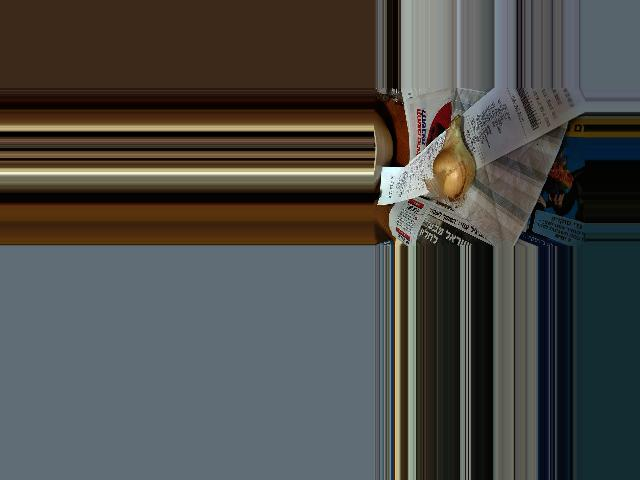onion: (435, 122, 473, 200)
